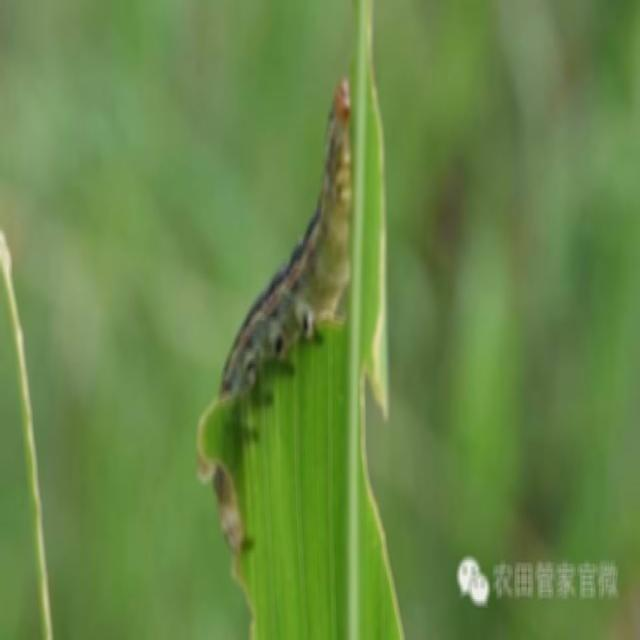army worm: (211, 79, 355, 584)
